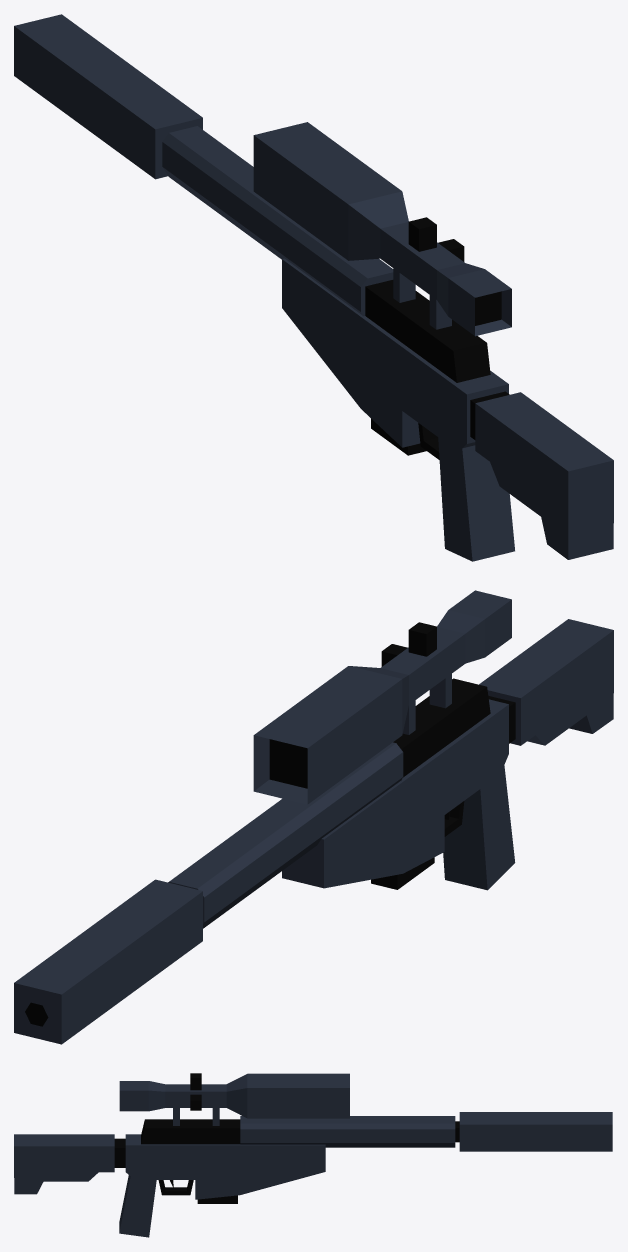
Rendered from weapon_snipe.fbx.
3 renders of one model, top to bottom at view 1: azimuth 30°, elevation 25°; view 2: azimuth 150°, elevation 25°; view 3: azimuth 270°, elevation 25°, orthographic. The views are drawn at different scales.
Visible parts, largest first — view 1: Cube; view 2: Cube; view 3: Cube.
Boxes of the visible parts, left/top/right/bottom form: Cube: left=14, top=14, right=613, bottom=561; Cube: left=14, top=590, right=613, bottom=1044; Cube: left=14, top=1073, right=612, bottom=1237.
Size of the model in its own units: 14.97 by 65.45 by 228.
